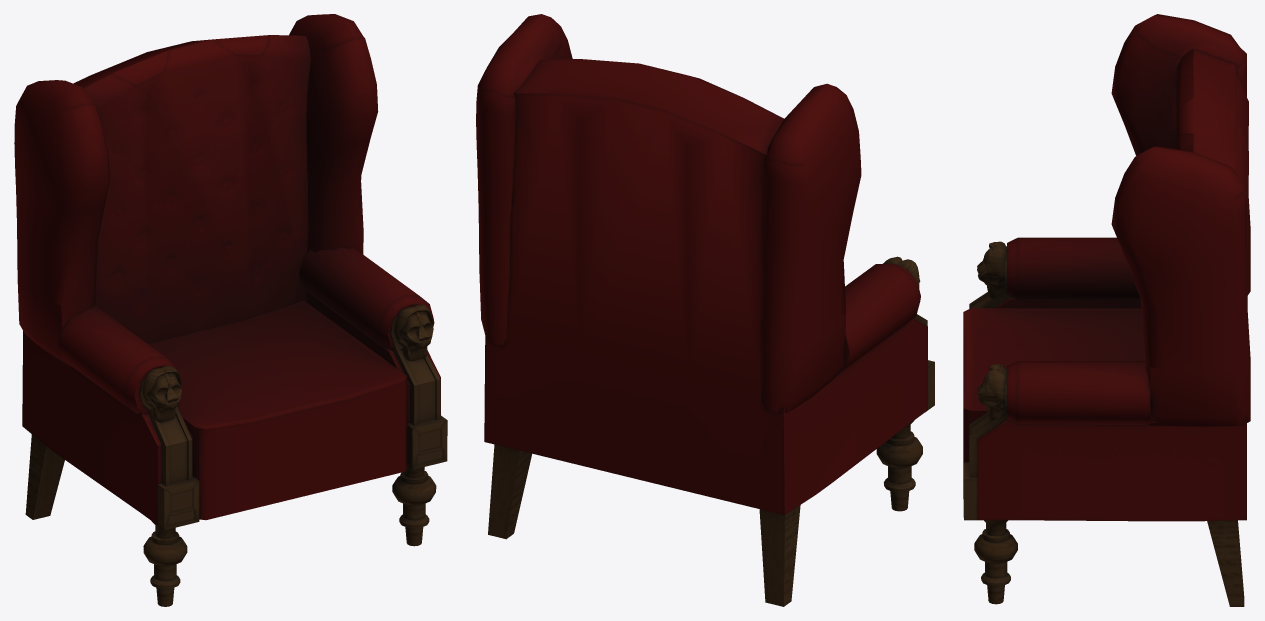
Rendered from the_matrix_chair.glb.
3 renders of one model, left to right at view 1: azimuth 30°, elevation 25°; view 2: azimuth 150°, elevation 25°; view 3: azimuth 270°, elevation 25°, orthographic. The views are drawn at different scales.
Visible parts, largest first — view 1: chair; view 2: chair; view 3: chair.
Part boxes in pixels (left/top/right/bottom): chair: left=14, top=14, right=447, bottom=606; chair: left=476, top=14, right=934, bottom=606; chair: left=963, top=14, right=1250, bottom=606.
Size of the model in its own units: 375 by 513 by 290.
1 material, 1 textured.
